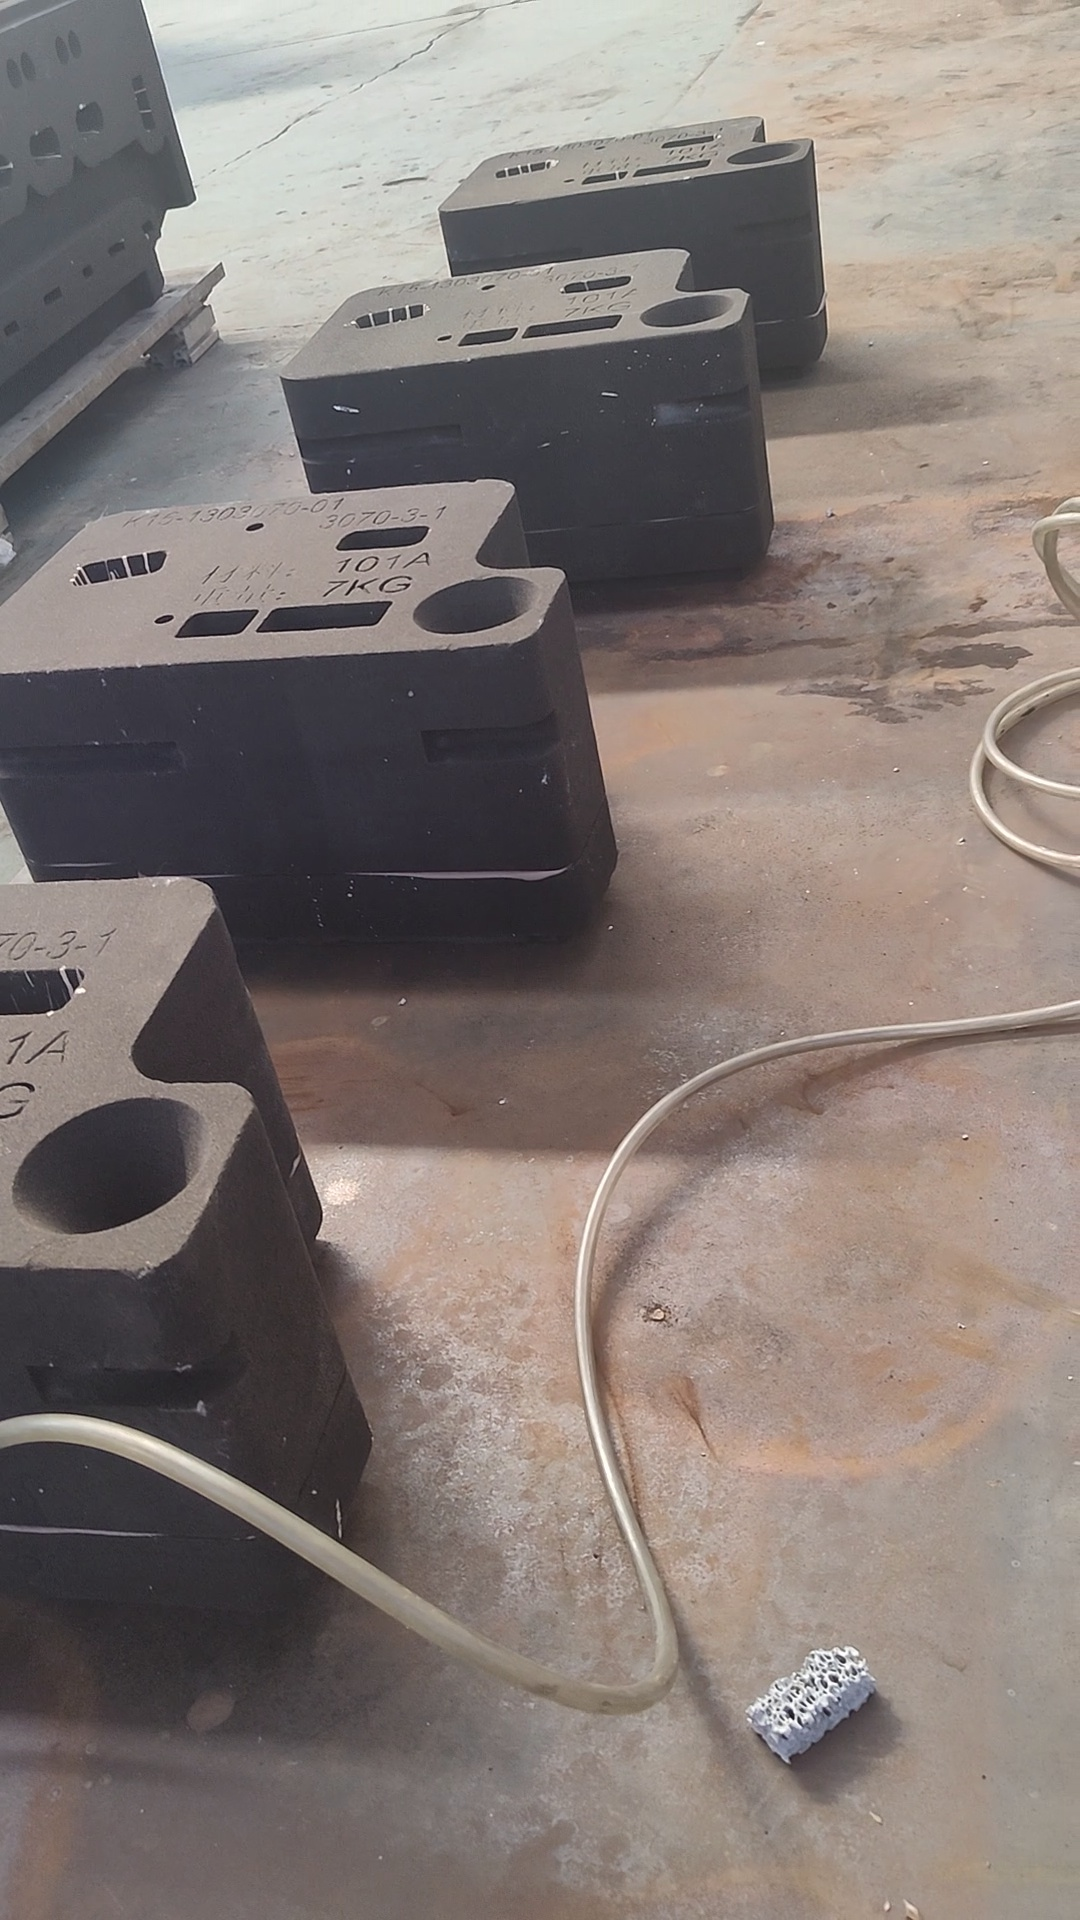pouring hole: (13, 1097, 204, 1234), (411, 574, 537, 633), (641, 295, 736, 328), (727, 141, 802, 164)
